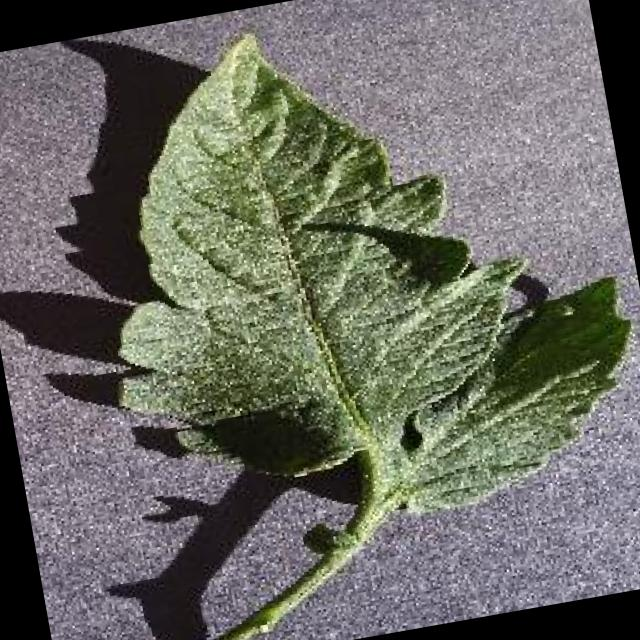Tomato_Healthy: (54, 0, 640, 572)
